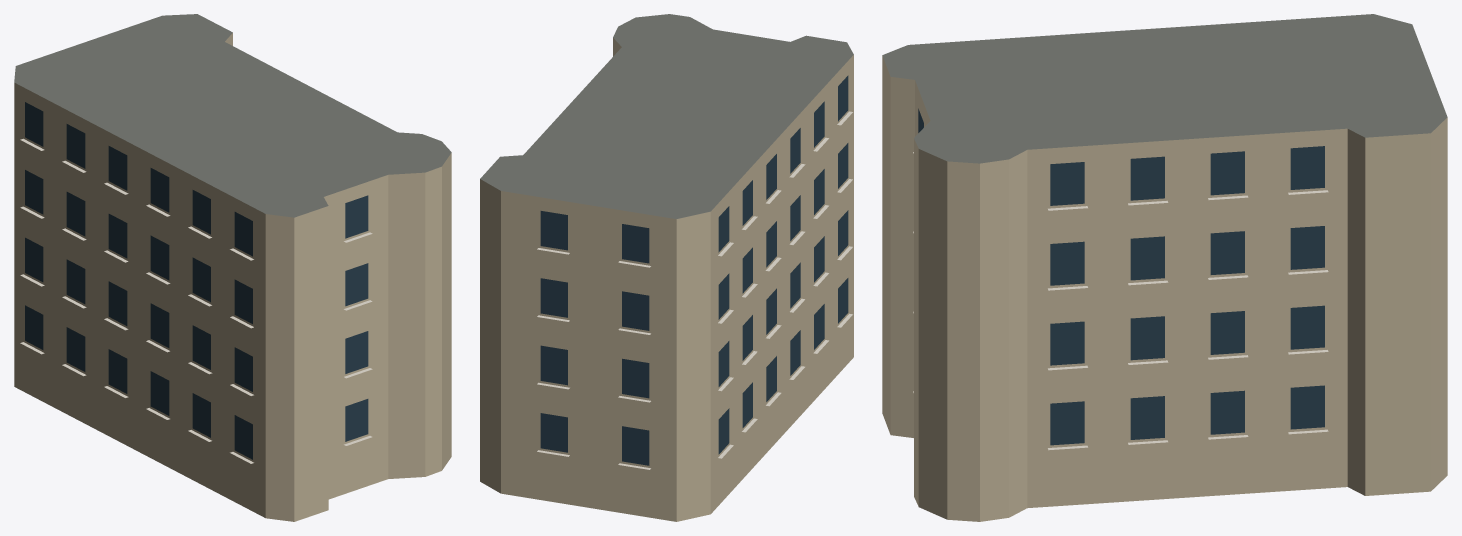
The picture shows the model from 3 angles, left to right: view 1: azimuth 30°, elevation 25°; view 2: azimuth 150°, elevation 25°; view 3: azimuth 270°, elevation 25°; orthographic projection. The views are drawn at different scales.
Visible parts, largest first — view 1: Footprint 0, Inferred window bays, Window sills; view 2: Footprint 0, Inferred window bays, Window sills; view 3: Footprint 0, Inferred window bays, Window sills.
Part boxes in pixels (bbox=[...]): Footprint 0: bbox=[14, 14, 451, 521]; Inferred window bays: bbox=[25, 102, 368, 459]; Window sills: bbox=[20, 138, 372, 463]; Footprint 0: bbox=[480, 14, 853, 521]; Inferred window bays: bbox=[540, 75, 848, 465]; Window sills: bbox=[537, 111, 852, 469]; Footprint 0: bbox=[882, 14, 1447, 521]; Inferred window bays: bbox=[918, 108, 1324, 445]; Window sills: bbox=[913, 152, 1328, 450].
Size of the model in its own units: 12.79 by 14.14 by 20.22.
